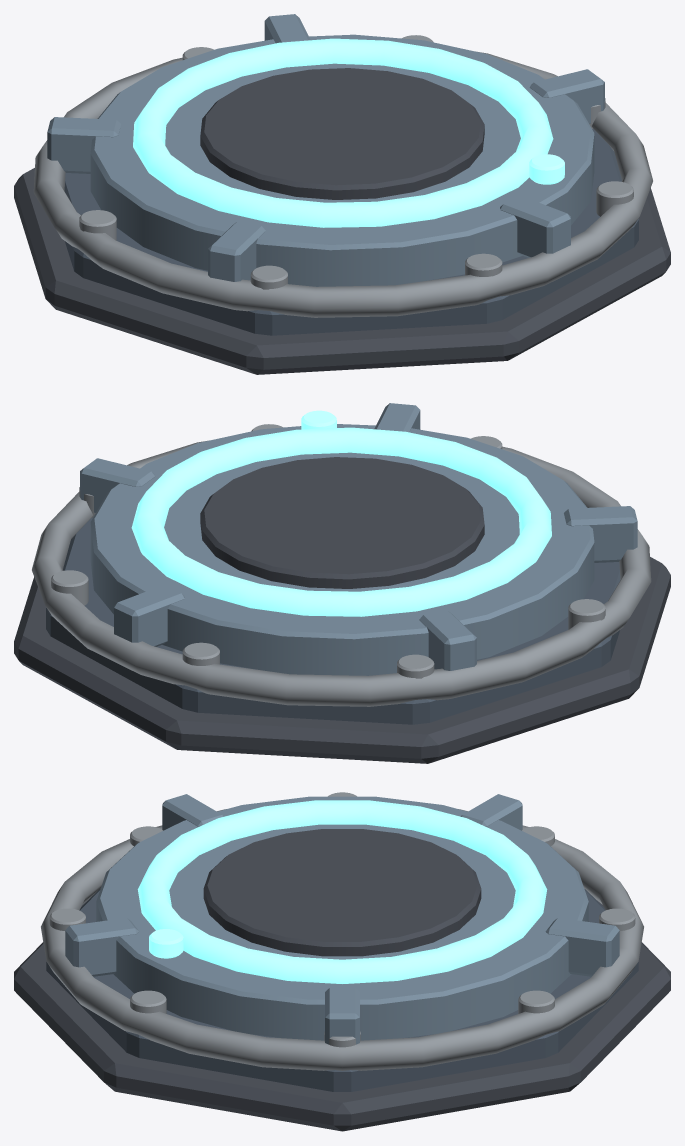
The model's file is gun_base_l1.glb.
The picture shows the model from 3 angles, top to bottom: view 1: azimuth 30°, elevation 25°; view 2: azimuth 150°, elevation 25°; view 3: azimuth 270°, elevation 25°; orthographic projection. The views are drawn at different scales.
Parts seen in each view (by area): view 1: Cylinder.002, Cylinder.003, Cylinder, Torus, Torus.001, Cylinder.001, Cube.004, Cube.002, Cube.003, Cube, Cube.001, Cylinder.012 (+4 smaller); view 2: Cylinder.002, Cylinder.003, Cylinder, Torus, Torus.001, Cylinder.001, Cube.001, Cube.003, Cube.002, Cube, Cube.004, Cylinder.005 (+4 smaller); view 3: Cylinder.002, Cylinder, Cylinder.003, Torus, Torus.001, Cylinder.001, Cube.001, Cube.004, Cube, Cube.002, Cube.003, Cylinder.012 (+4 smaller).
Part boxes in pixels (x1,y1,x2,y2): Cylinder.002: (90,34,594,286); Cylinder.003: (200,68,484,199); Cylinder: (14,168,670,374); Torus: (33,51,652,317); Torus.001: (133,38,553,227); Cylinder.001: (64,129,638,335); Cube.004: (500,196,570,257); Cube.002: (47,117,120,173); Cube.003: (208,221,265,281); Cube: (530,69,604,123); Cube.001: (264,14,310,43); Cylinder.012: (529,154,564,184); Cylinder.002: (90,424,594,675); Cylinder.003: (200,457,484,588); Cylinder: (14,557,670,763); Torus: (32,440,651,706); Torus.001: (131,427,551,616); Cylinder.001: (46,518,620,724); Cube.001: (114,585,184,646); Cube.003: (564,506,637,562); Cube.002: (419,610,476,670); Cube: (80,458,154,512); Cube.004: (374,403,420,432); Cylinder.005: (51,570,88,605); Cylinder.002: (96,796,588,1040); Cylinder: (14,900,670,1131); Cylinder.003: (203,829,481,956); Torus: (41,809,643,1070); Torus.001: (137,800,547,983); Cylinder.001: (46,889,638,1091); Cube.001: (545,918,619,976); Cube.004: (65,918,139,976); Cube: (325,988,359,1044); Cube.002: (460,794,522,830); Cube.003: (162,794,224,830); Cylinder.012: (149,929,183,958).
Bounding box in the file's own units: 2.08 × 0.4 × 2.08.
